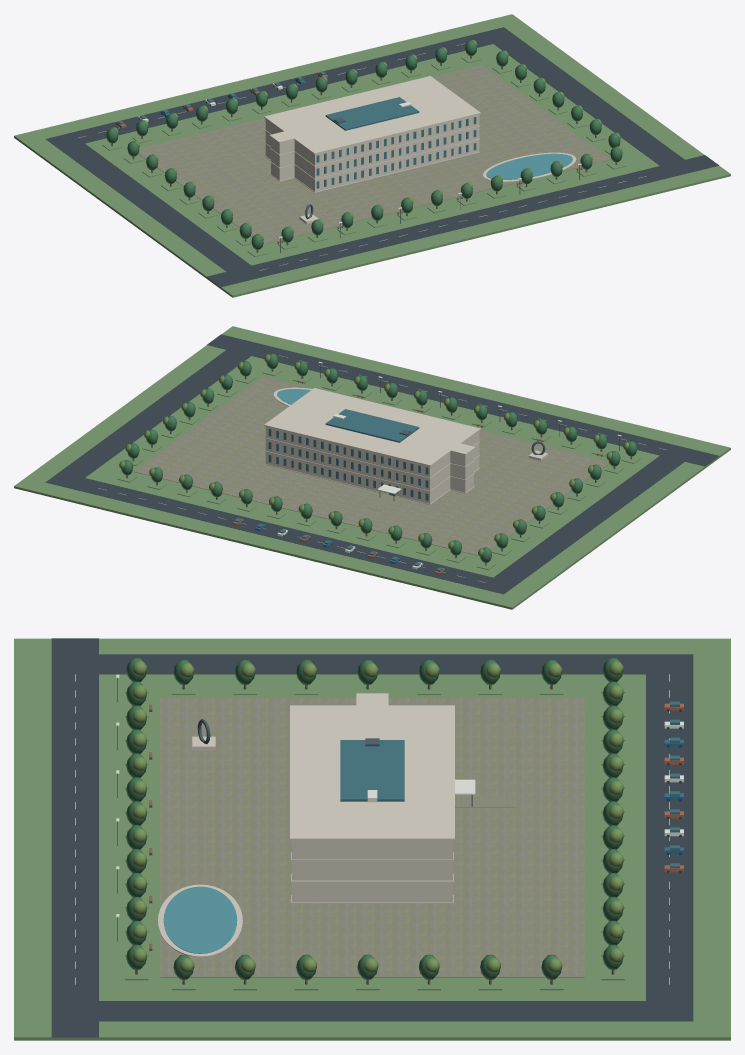
3 views of the same model, one above another, from view 1: azimuth 30°, elevation 25°; view 2: azimuth 150°, elevation 25°; view 3: azimuth 270°, elevation 25° (orthographic). The views are drawn at different scales.
Visible parts, largest first — view 1: Landscape/grass, Landscape/paving, Landscape/road, Building 1/Roof/stone, Building 1/stone, Landscape/leaf, Building 1/Roof/glass, Water garden/water, Building 2/stone, Landscape/leaf2, Building 1/Floor 3/glass, Building 1/Floor 1/glass (+1 smaller); view 2: Landscape/grass, Landscape/paving, Landscape/road, Building 1/Roof/stone, Building 1/stone, Landscape/leaf, Landscape/leaf2, Building 1/Roof/glass, Building 2/stone, Building 1/Floor 3/glass, Building 1/Floor 2/glass, Building 1/Floor 1/glass; view 3: Landscape/grass, Landscape/paving, Landscape/road, Building 1/Roof/stone, Landscape/leaf, Building 1/stone, Landscape/leaf2, Water garden/water, Building 1/Roof/glass, Water garden/stone, Accessible entrance/paving.
Part boxes in pixels (bbox=[...]): Landscape/grass: bbox=[14, 14, 730, 297]; Landscape/paving: bbox=[138, 65, 611, 244]; Landscape/road: bbox=[45, 27, 718, 287]; Building 1/Roof/stone: bbox=[264, 76, 480, 154]; Building 1/stone: bbox=[265, 114, 479, 191]; Landscape/leaf: bbox=[106, 40, 622, 249]; Building 1/Roof/glass: bbox=[325, 97, 419, 130]; Water garden/water: bbox=[486, 153, 572, 179]; Building 2/stone: bbox=[271, 137, 294, 180]; Landscape/leaf2: bbox=[112, 40, 622, 240]; Building 1/Floor 3/glass: bbox=[316, 117, 476, 162]; Building 1/Floor 1/glass: bbox=[316, 143, 476, 188]; Landscape/grass: bbox=[14, 326, 730, 609]; Landscape/paving: bbox=[133, 377, 609, 555]; Landscape/road: bbox=[45, 334, 718, 594]; Building 1/Roof/stone: bbox=[264, 388, 480, 466]; Building 1/stone: bbox=[265, 426, 479, 503]; Landscape/leaf: bbox=[121, 353, 637, 562]; Landscape/leaf2: bbox=[119, 354, 628, 556]; Building 1/Roof/glass: bbox=[325, 409, 419, 442]; Building 2/stone: bbox=[450, 449, 473, 492]; Building 1/Floor 3/glass: bbox=[268, 429, 428, 474]; Building 1/Floor 2/glass: bbox=[268, 442, 428, 487]; Building 1/Floor 1/glass: bbox=[268, 455, 428, 500]; Landscape/grass: bbox=[14, 638, 730, 1040]; Landscape/paving: bbox=[160, 698, 584, 977]; Landscape/road: bbox=[51, 638, 693, 1037]; Building 1/Roof/stone: bbox=[290, 705, 454, 840]; Landscape/leaf: bbox=[126, 657, 623, 979]; Building 1/stone: bbox=[291, 840, 453, 902]; Landscape/leaf2: bbox=[133, 661, 623, 973]; Water garden/water: bbox=[163, 886, 237, 953]; Building 1/Roof/glass: bbox=[340, 740, 404, 801]; Water garden/stone: bbox=[158, 884, 242, 956]; Accessible entrance/paving: bbox=[455, 795, 514, 807].
Size of the model in its own units: 200 by 17.25 by 152.
15 materials, 1 textured.
